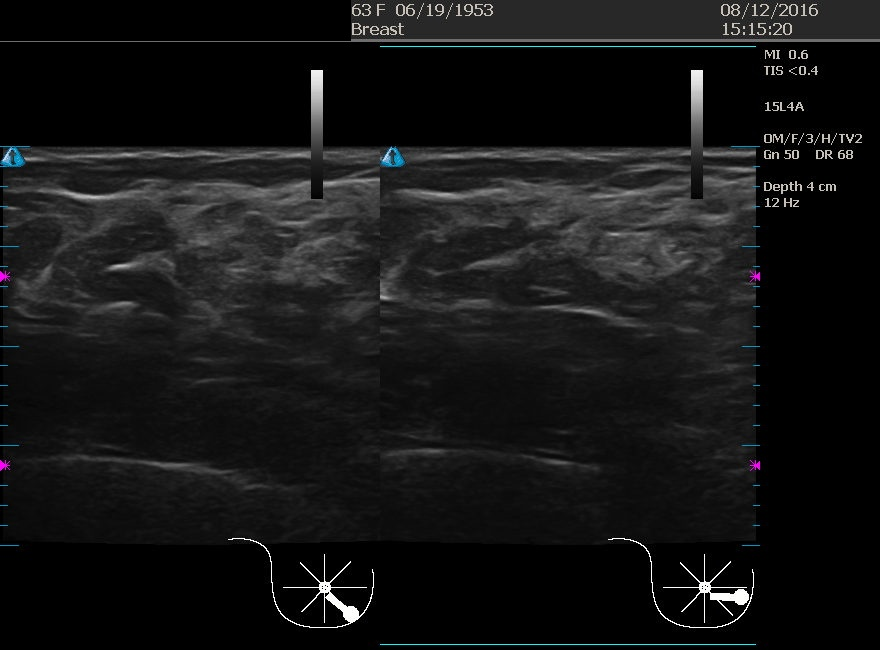BIRADS_3: (28, 210, 220, 402), (429, 199, 621, 391)
